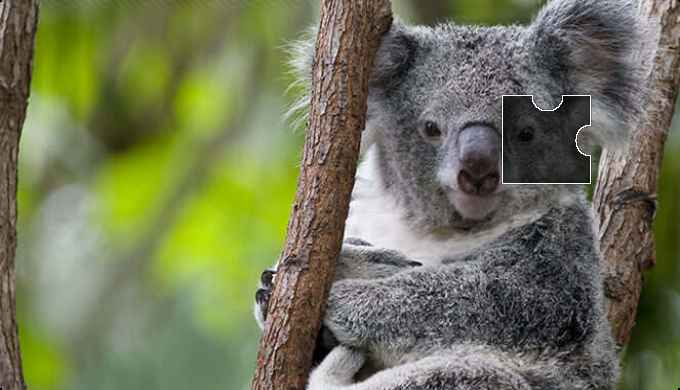gap: (503, 95, 591, 186)
